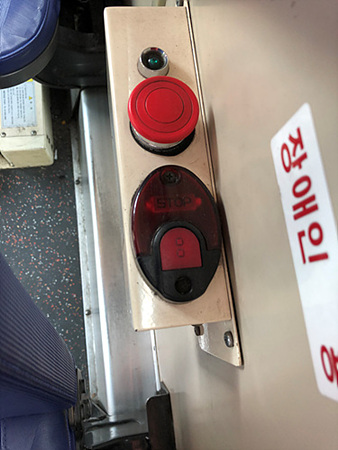bell: (130, 162, 225, 304)
